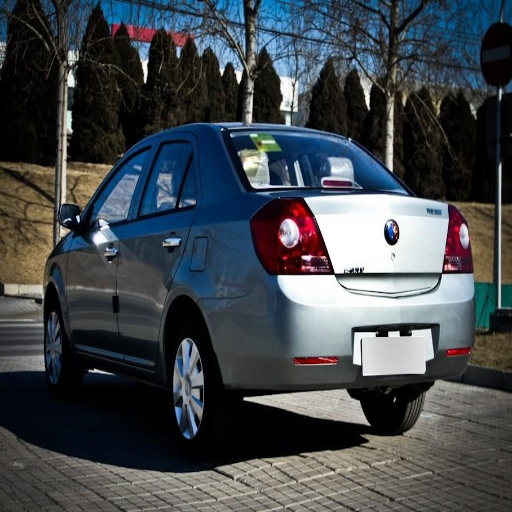back_bumper: (211, 273, 473, 398)
back_glass: (307, 144, 403, 191)
back_left_door: (120, 133, 196, 361)
tailgate: (317, 205, 448, 296)
trunk: (303, 186, 439, 244)
